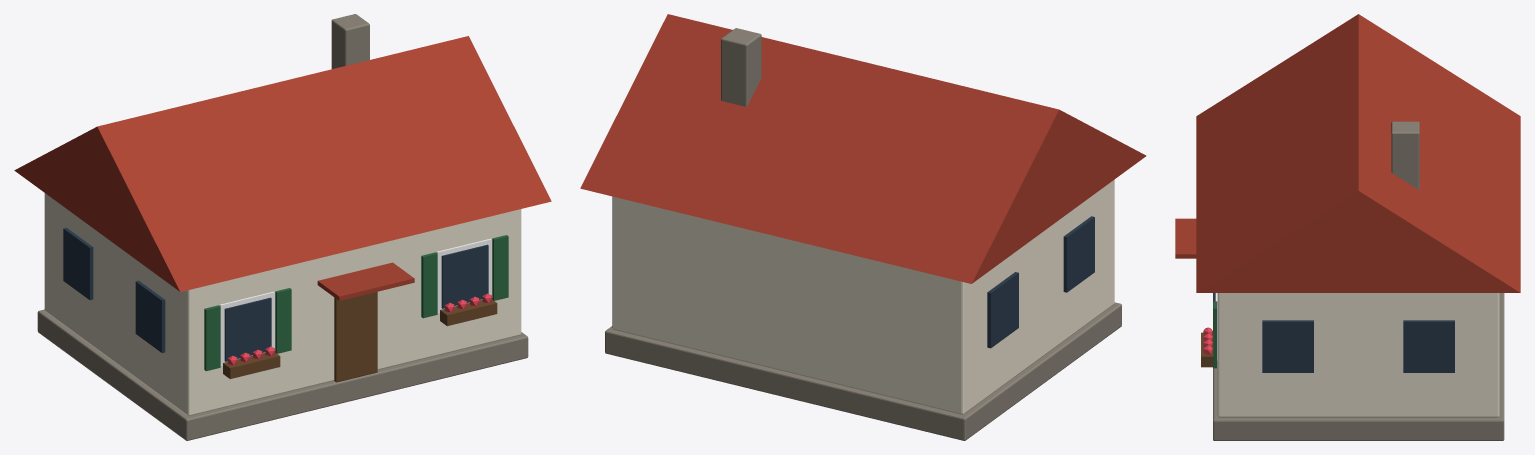
Rendered from haus_cottage.glb.
3 views of the same model, side by side, from view 1: azimuth 30°, elevation 25°; view 2: azimuth 150°, elevation 25°; view 3: azimuth 270°, elevation 25° (orthographic). The views are drawn at different scales.
Parts seen in each view (by area): view 1: dach, wand, sockel, tuer, fenster, fenster.001, vordach, kamin, fs.002, fs, laden_l, laden_l.001 (+6 smaller); view 2: dach, wand, sockel, kamin, fs, fs.002; view 3: dach, wand, sockel, fs.001, fs.003, kamin, vordach.
Part boxes in pixels (bbox=[...]): dach: bbox=[14, 36, 551, 291]; wand: bbox=[44, 193, 521, 415]; sockel: bbox=[37, 309, 528, 440]; tuer: bbox=[334, 292, 377, 382]; fenster: bbox=[224, 297, 271, 361]; fenster.001: bbox=[441, 244, 488, 308]; vordach: bbox=[317, 262, 414, 300]; kamin: bbox=[331, 14, 369, 68]; fs.002: bbox=[63, 227, 93, 300]; fs: bbox=[135, 280, 165, 352]; laden_l: bbox=[204, 305, 220, 371]; laden_l.001: bbox=[421, 252, 437, 318]; dach: bbox=[580, 14, 1146, 283]; wand: bbox=[612, 179, 1114, 414]; sockel: bbox=[605, 302, 1121, 440]; kamin: bbox=[721, 28, 761, 106]; fs: bbox=[1063, 216, 1094, 292]; fs.002: bbox=[987, 272, 1018, 348]; dach: bbox=[1196, 14, 1520, 292]; wand: bbox=[1217, 293, 1499, 417]; sockel: bbox=[1213, 293, 1504, 440]; fs.001: bbox=[1262, 320, 1313, 372]; fs.003: bbox=[1403, 320, 1454, 372]; kamin: bbox=[1391, 121, 1419, 189]; vordach: bbox=[1175, 218, 1196, 258].
Size of the model in its own units: 8.9 by 6.5 by 7.35.
